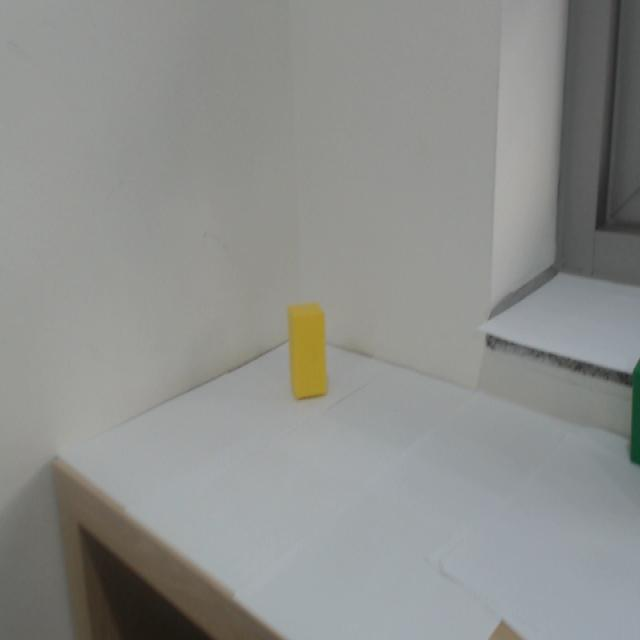cube: (274, 290, 344, 415)
